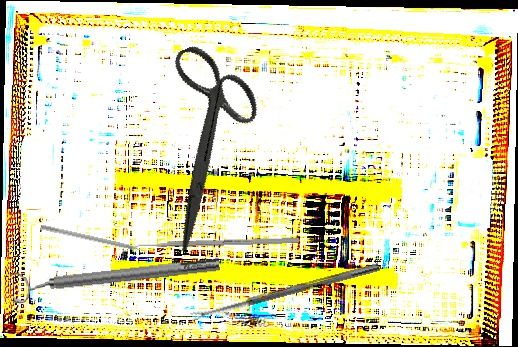Chopper: (39, 224, 152, 261)
Fixation Ring: (10, 249, 222, 305)
Iris Scissors: (109, 31, 300, 252)
Pusher: (120, 236, 300, 250)
Surgical Spoon: (190, 262, 380, 321)
